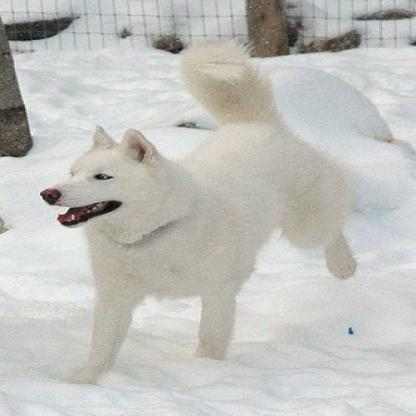Eskimo_dog: (36, 37, 357, 386)
